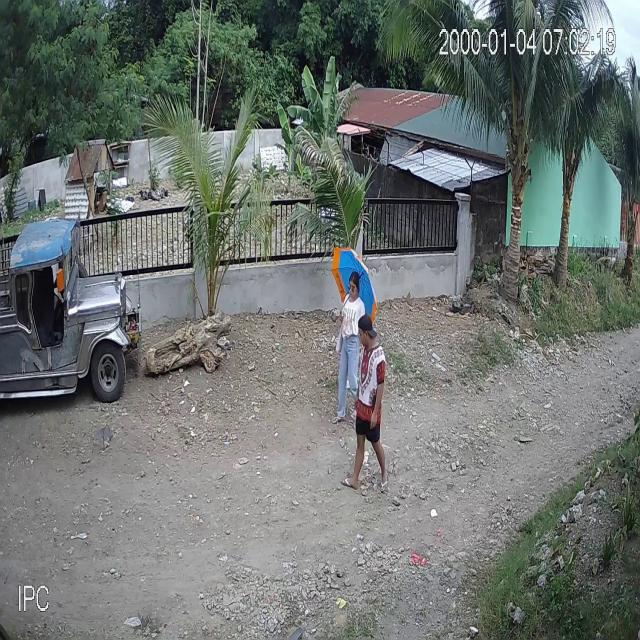walking: (328, 244, 380, 426), (339, 312, 390, 496)
